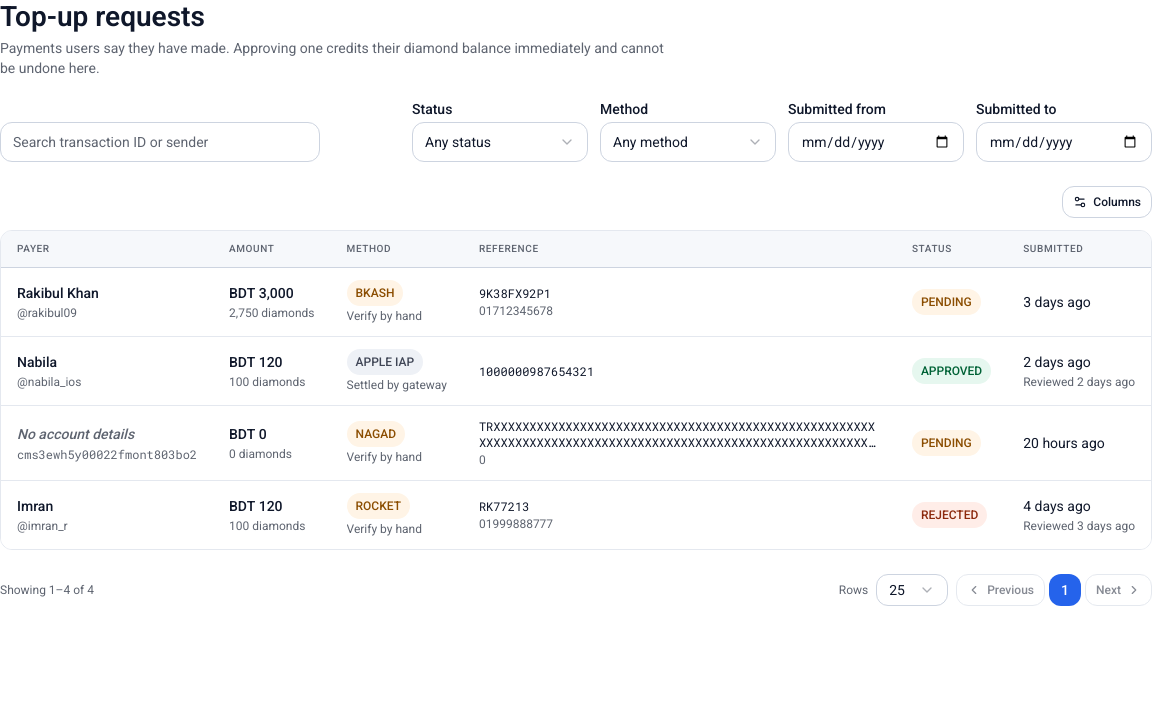
Test: the drawer › shows the reason a payment was refused
The width and height of the screenshot is (1152, 720).
Click the text "Imran": {"x": 35, "y": 506} top-left (17, 498), bottom-right (53, 514)
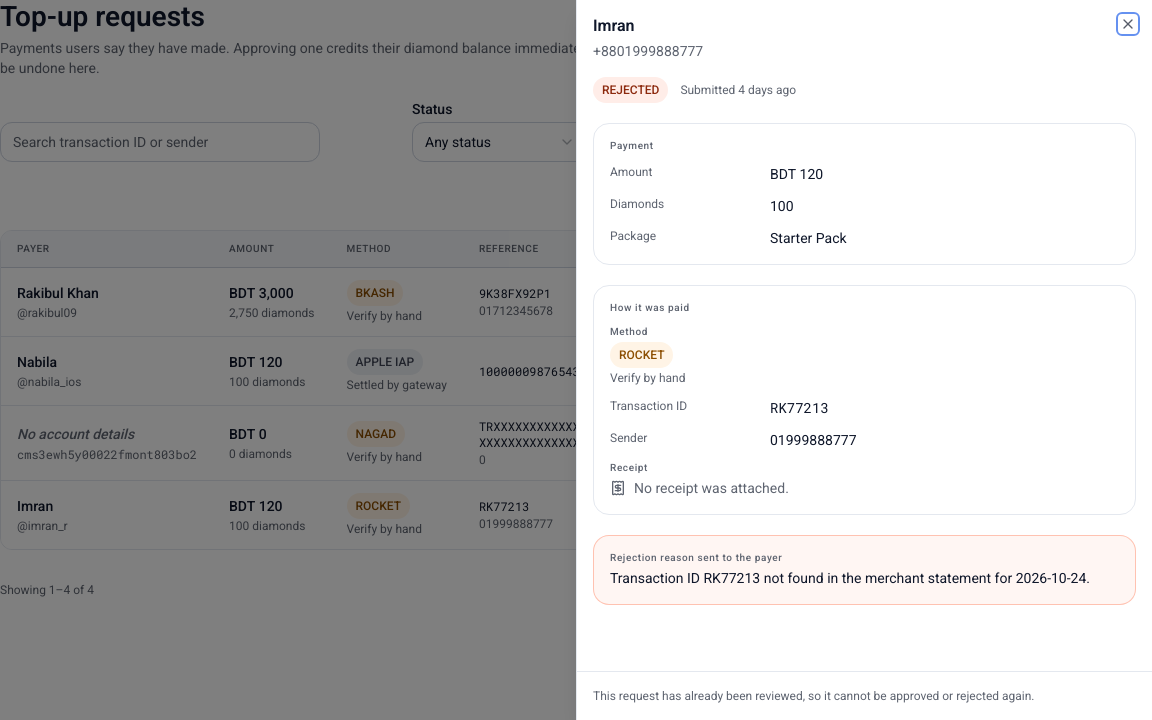
Now the heading "Payment" is shown, box top-left (610, 140), bottom-right (654, 151)
Now the text "not found in the merchant statement" is shown, box top-left (610, 570), bottom-right (1090, 586)
